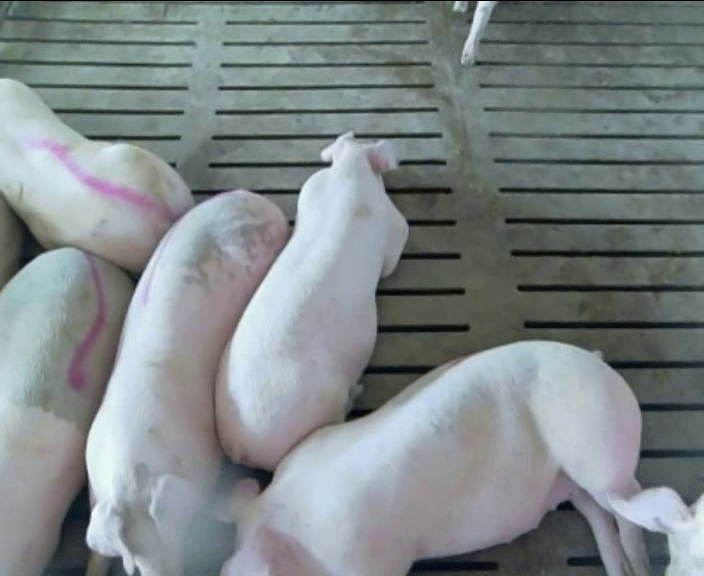pig: (215, 342, 645, 574), (85, 192, 287, 575), (216, 132, 407, 468), (0, 248, 132, 574)
